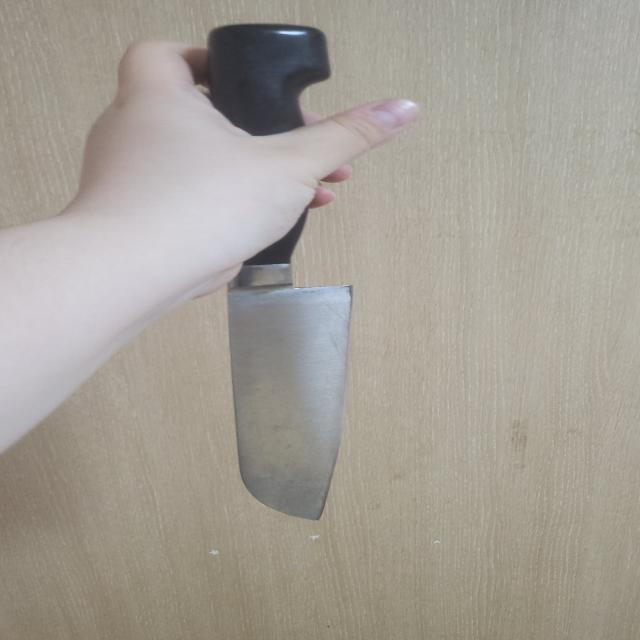knife: (207, 22, 350, 519)
